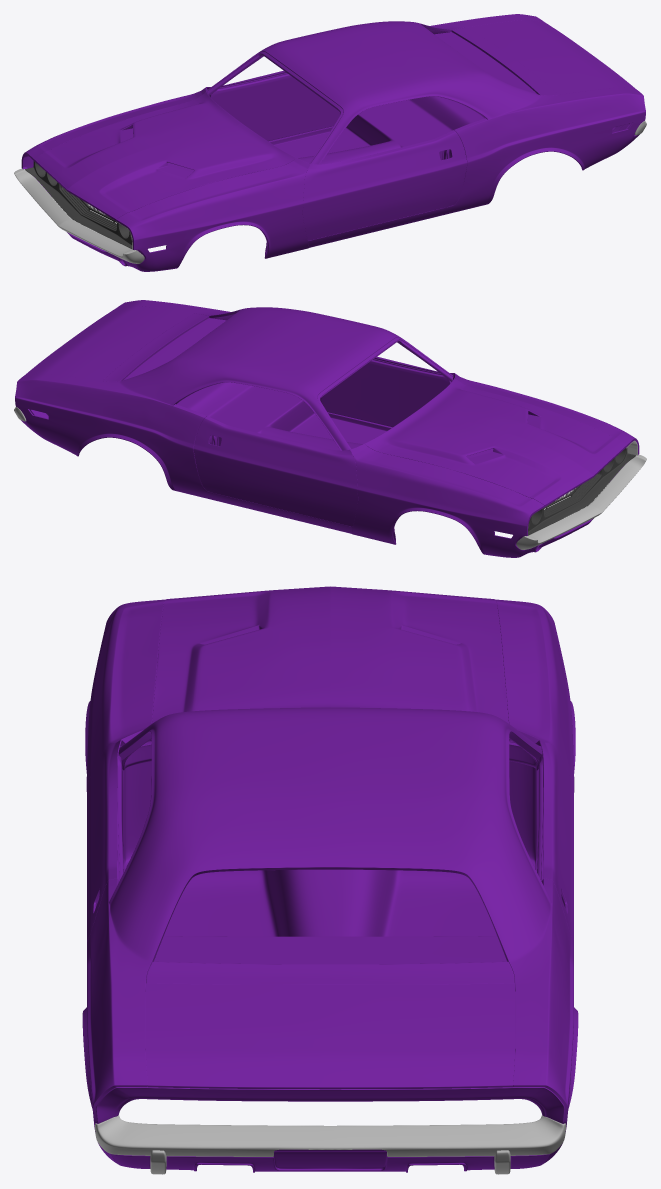
File: dodge_car_body.glb
3 renders of one model, top to bottom at view 1: azimuth 30°, elevation 25°; view 2: azimuth 150°, elevation 25°; view 3: azimuth 270°, elevation 25°, orthographic. The views are drawn at different scales.
Visible parts, largest first — view 1: Object25_01 - Default_0 (×7), F_bumper_02 - Default_0, Object04_03 - Default_0; view 2: Object25_01 - Default_0 (×7), F_bumper_02 - Default_0, Object04_03 - Default_0; view 3: Object25_01 - Default_0 (×7), Object03_02 - Default_0.
Part boxes in pixels (x1,y1,x2,y2): Object25_01 - Default_0 (×7): [21, 14, 645, 271]; F_bumper_02 - Default_0: [14, 168, 144, 263]; Object04_03 - Default_0: [25, 161, 132, 248]; Object25_01 - Default_0 (×7): [15, 300, 639, 557]; F_bumper_02 - Default_0: [516, 454, 646, 549]; Object04_03 - Default_0: [528, 448, 635, 535]; Object25_01 - Default_0 (×7): [82, 586, 578, 1172]; Object03_02 - Default_0: [95, 1115, 565, 1174].
Bounding box in the file's own units: 193 × 43.02 × 77.04.
